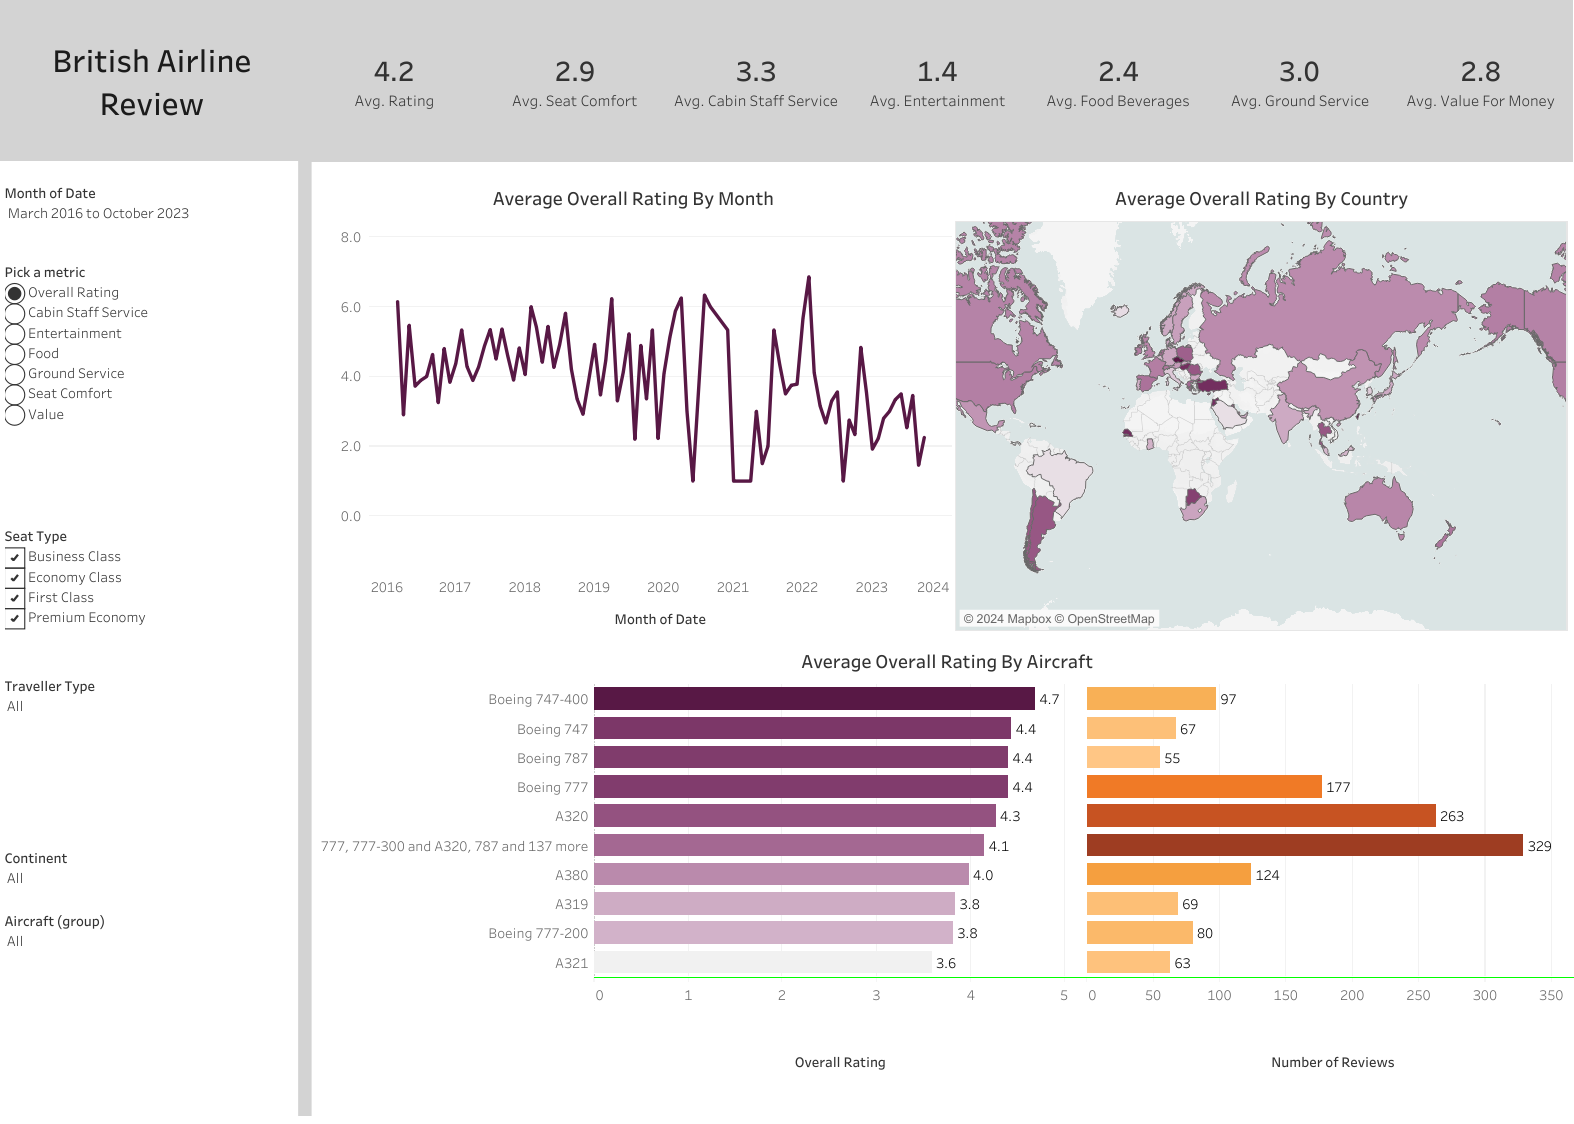

The page's visual inventory and layout, read from the dashboard file:
{"tool":"tableau","page":{"name":"British Airline Review","canvas":[1400,1000],"ordinal":0},"visuals":[{"type":"text","box":[0,0,269.5,142.9]},{"type":"worksheet","title":"Summary","mark":"Automatic","box":[269.5,0,1127,142.9]},{"type":"blank","box":[265.1,141.9,12.1,850.5]},{"type":"filter","title":"Map","param":"[federated.0soa5v30ypxfra10zs4ss1l96ffx].[tmn:date:qk]","box":[0,157.1,266,77]},{"type":"worksheet","title":"Month","mark":"Automatic","rows":["Calculation_1173469194398851073"],"cols":["date"],"box":[280,158.1,566,400.9]},{"type":"worksheet","title":"Map","mark":"Automatic","box":[849,158.1,545,402.9]},{"type":"parameter","param":"[Parameters].[Parameter 1]","box":[0,234.1,266,235]},{"type":"filter","title":"Map","param":"[federated.0soa5v30ypxfra10zs4ss1l96ffx].[none:seat_type:nk]","box":[0,469.1,266,175]},{"type":"worksheet","title":"Aircraft","mark":"Automatic","cols":["Calculation_1173469194398851073","ba_reviews.csv_6810B1AB0CE94EDBBCD51308AF683F45"],"box":[280,570,1124,406]},{"type":"filter","title":"Map","param":"[federated.0soa5v30ypxfra10zs4ss1l96ffx].[none:traveller_type:nk]","box":[0,644.1,266,202]},{"type":"filter","title":"Map","param":"[federated.0soa5v30ypxfra10zs4ss1l96ffx].[none:Continent:nk]","box":[0,846.1,266,70]},{"type":"filter","title":"Map","param":"[federated.0soa5v30ypxfra10zs4ss1l96ffx].[Aircraft (group)]","box":[0,916.1,266,70]}]}

Visuals, with their boxes in screenshot pixels (x1, y1, x2, y2), scaled from the page's 1400x1000 canvas onto the 1574x1124 screenshot:
text: left=0, top=0, right=303, bottom=161
"Summary" worksheet: left=303, top=0, right=1570, bottom=161
blank: left=298, top=159, right=312, bottom=1115
"Map" filter: left=0, top=177, right=299, bottom=263
"Month" worksheet: left=315, top=178, right=951, bottom=628
"Map" worksheet: left=955, top=178, right=1567, bottom=631
parameter: left=0, top=263, right=299, bottom=527
"Map" filter: left=0, top=527, right=299, bottom=724
"Aircraft" worksheet: left=315, top=641, right=1573, bottom=1097
"Map" filter: left=0, top=724, right=299, bottom=951
"Map" filter: left=0, top=951, right=299, bottom=1030
"Map" filter: left=0, top=1030, right=299, bottom=1108
